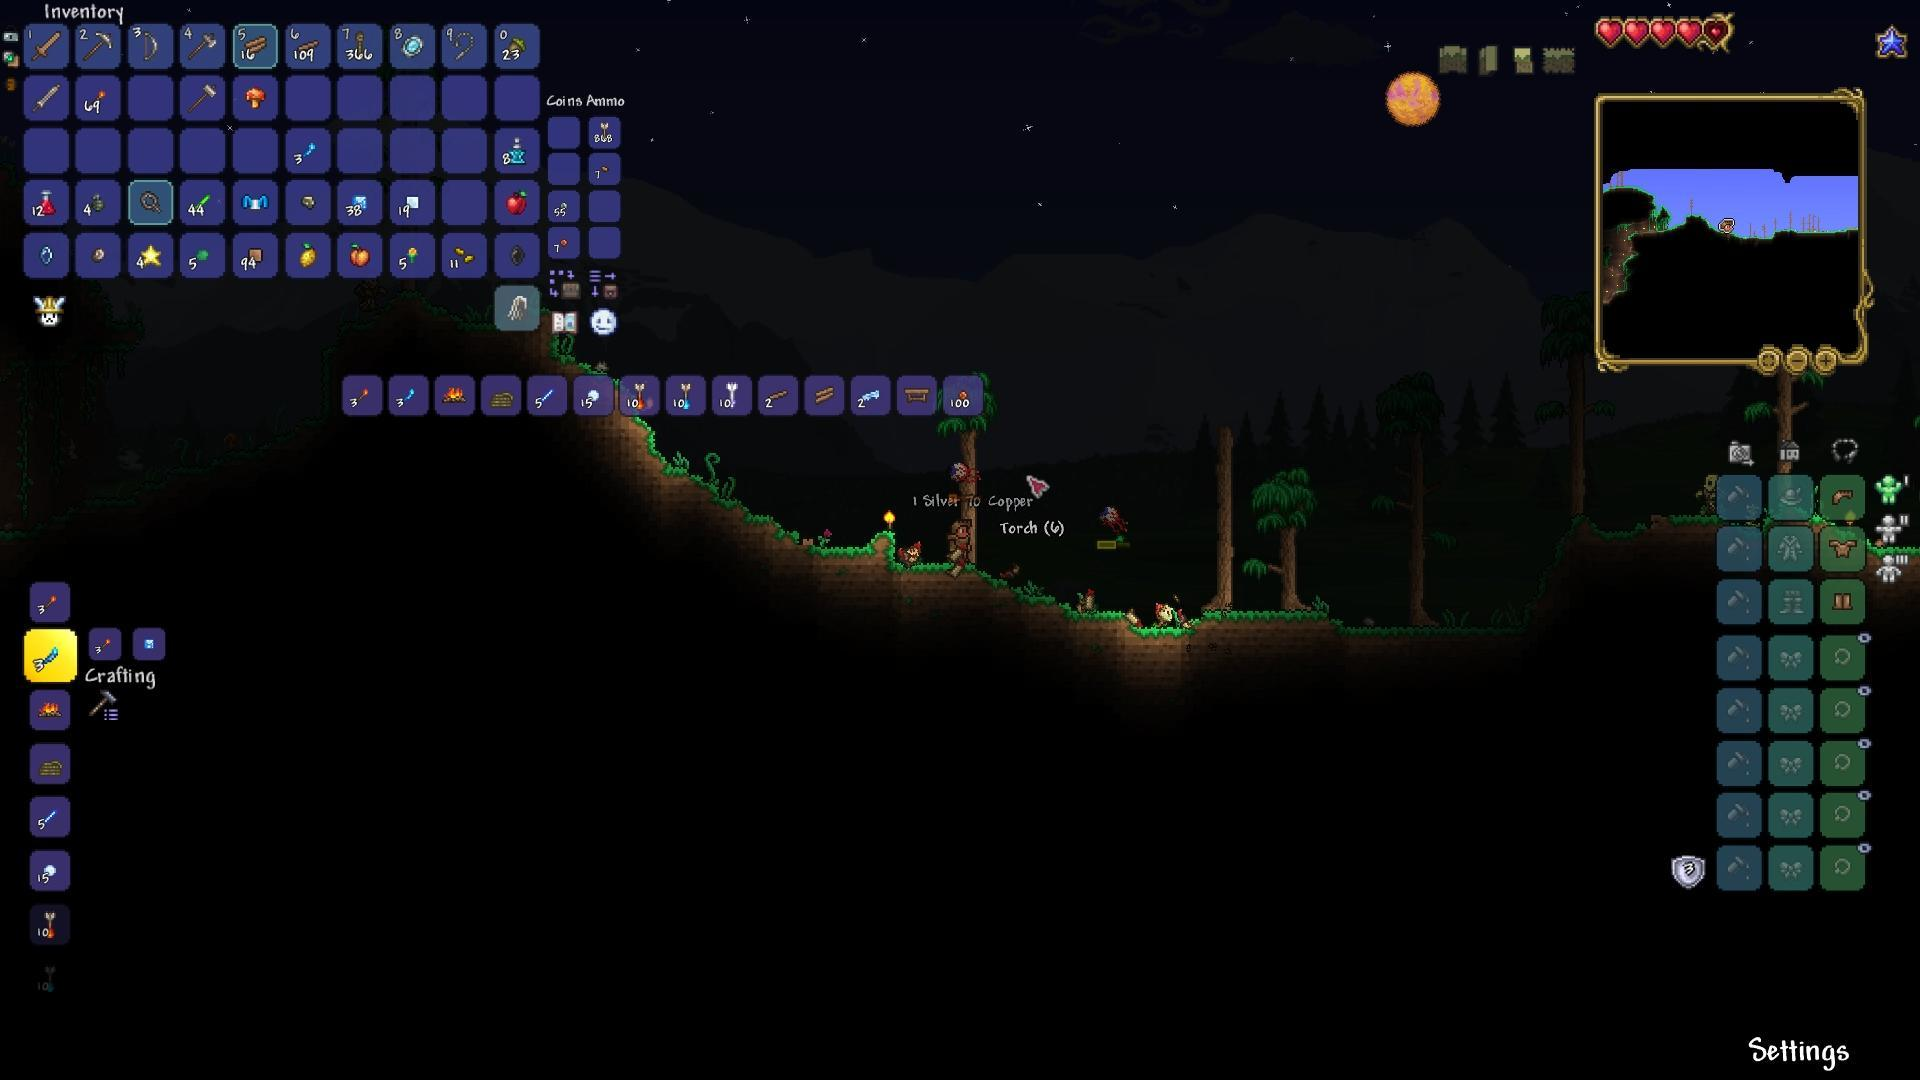eye: (945, 458, 984, 488), (1096, 500, 1127, 535)
grenade: (87, 191, 108, 216)
potion: (36, 183, 61, 218)
recallP: (502, 135, 530, 170)
star: (137, 241, 164, 266)
